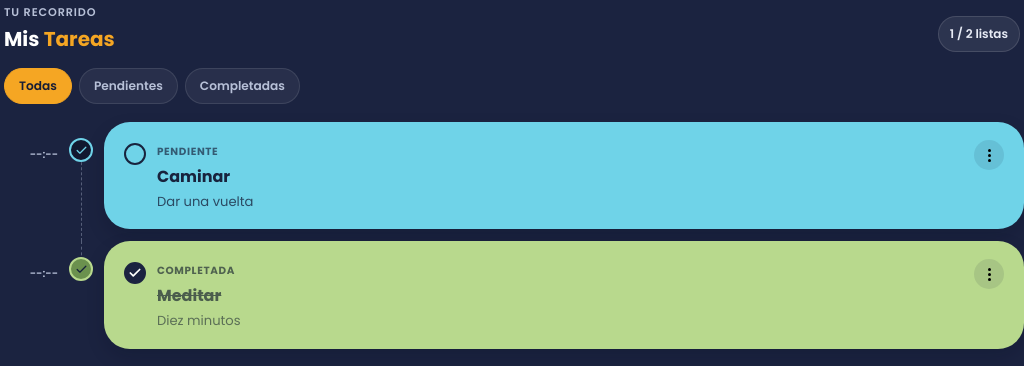
it: TaskList › filtra tareas pendientes y completadas
The width and height of the screenshot is (1024, 366).
Step 1. Click the button "Pendientes" → (128,86), box [79,68,178,104]
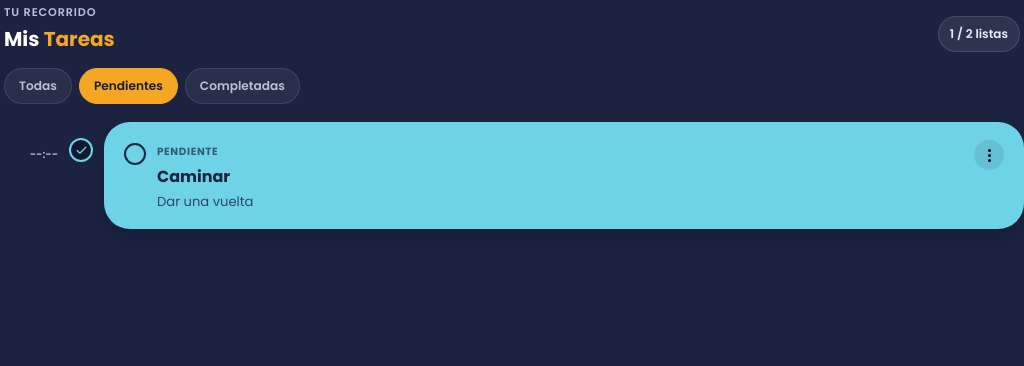
Check: the heading "Caminar" is shown, box [157,165,230,188]
Check: the heading "Meditar" is gone
Step 2. Click the button "Completadas" → (242,86), box [185,68,300,104]
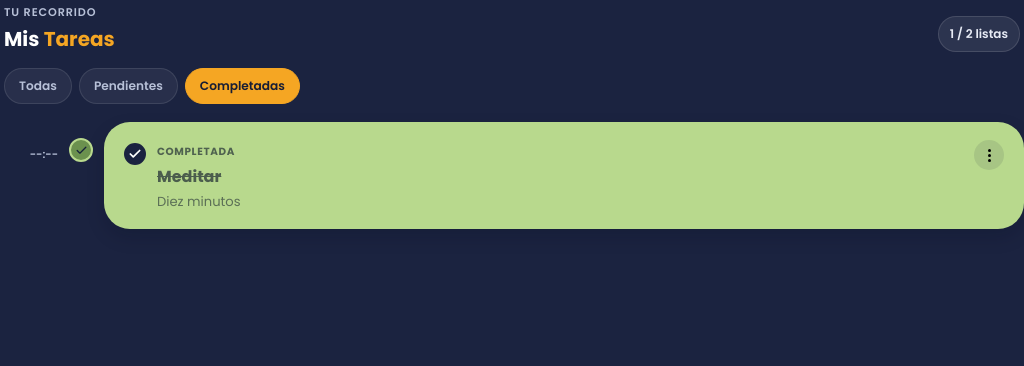
Check: the heading "Meditar" is shown, box [157,165,221,188]
Check: the heading "Caminar" is gone
